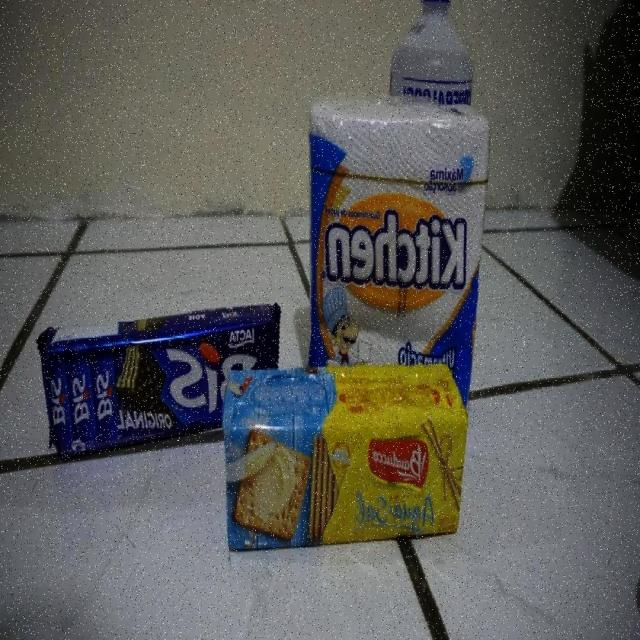AlcoholBottle: (383, 1, 478, 91)
Cracker: (221, 365, 464, 559)
Napkin: (305, 102, 491, 356)
